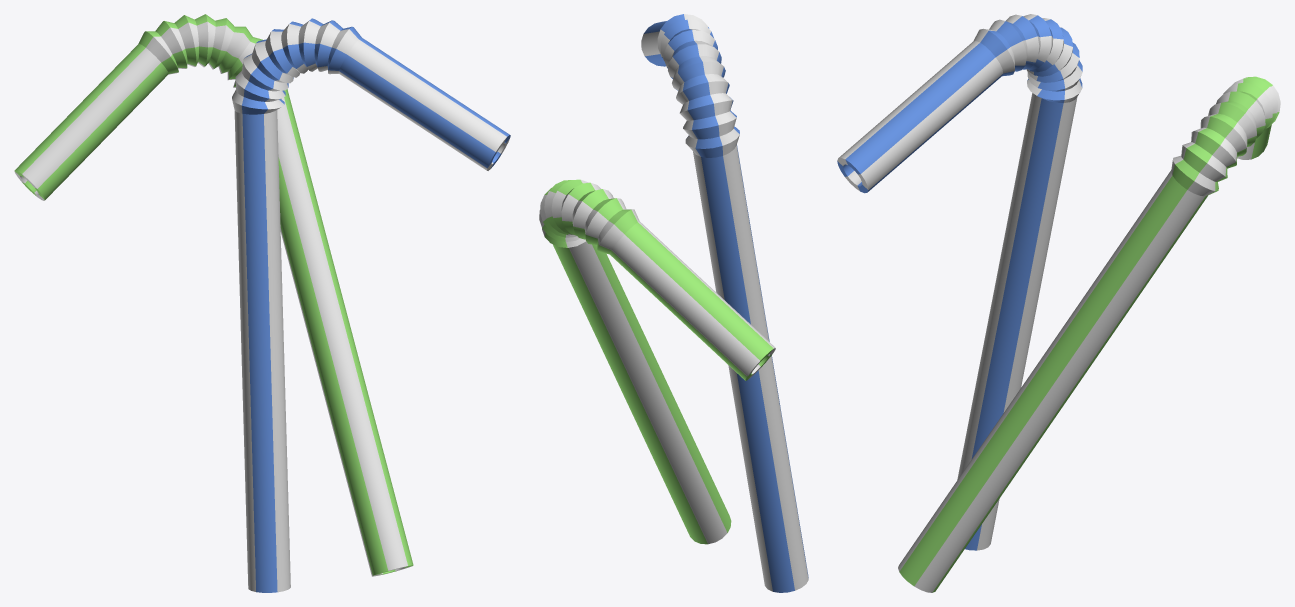
The model's file is straw3.fbx.
The picture shows the model from 3 angles, left to right: view 1: azimuth 30°, elevation 25°; view 2: azimuth 150°, elevation 25°; view 3: azimuth 270°, elevation 25°; orthographic projection. The views are drawn at different scales.
Parts seen in each view (by area): view 1: Circle.010; view 2: Circle.010; view 3: Circle.010.
Part boxes in pixels (x1=…): Circle.010: x1=14, y1=14, x2=510, y2=592; Circle.010: x1=539, y1=14, x2=808, y2=592; Circle.010: x1=837, y1=14, x2=1280, y2=592.
Bounding box in the file's own units: 0.8684 × 1.45 × 1.04.
